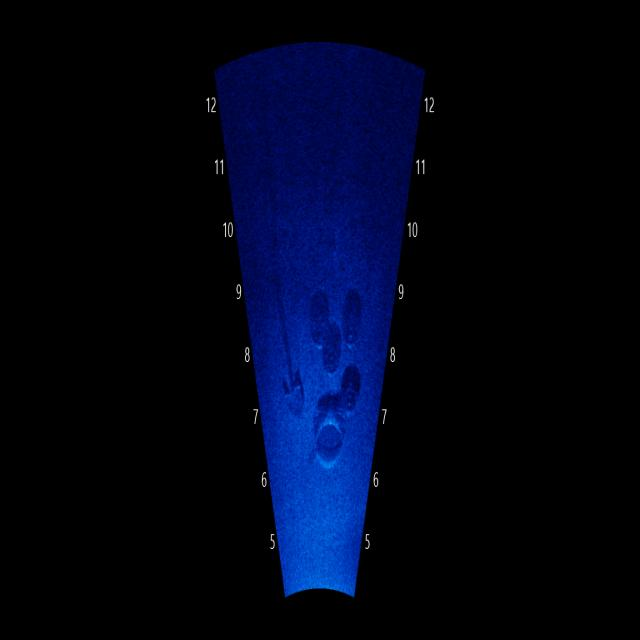circle: (308, 404, 355, 484), (340, 272, 372, 356), (334, 364, 371, 424), (307, 288, 337, 352), (321, 315, 347, 373)
